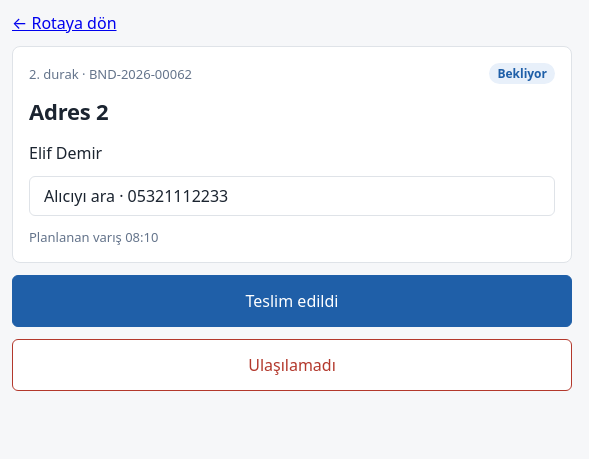
Test: courier screens › CourierStopPage (K3) › should show the server message when the stop was already closed
Click the button "Teslim edildi".
click(292, 301)  # box [12, 275, 572, 327]
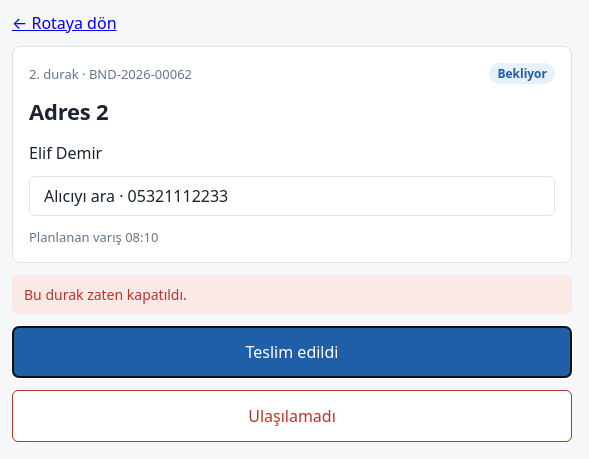
expect the message reads "Bu durak zaten kapatıldı.": met, box [24, 285, 187, 304]
